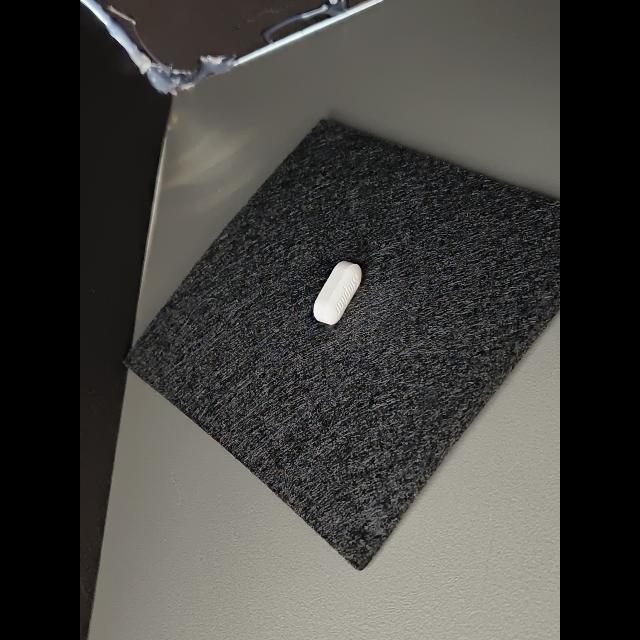Intact Pill: (313, 261, 362, 325)
